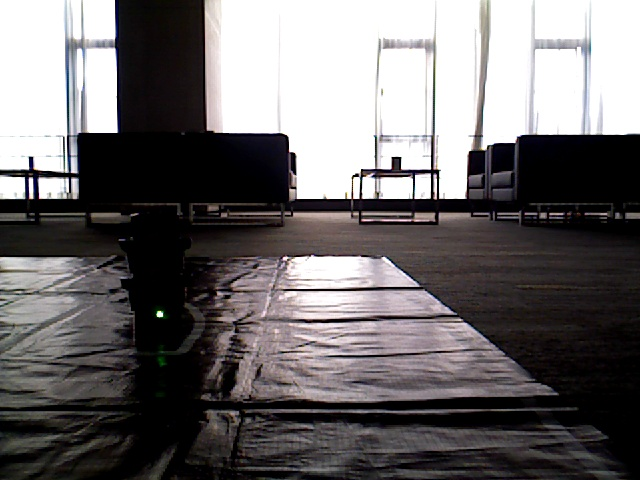green: (141, 223, 185, 330)
